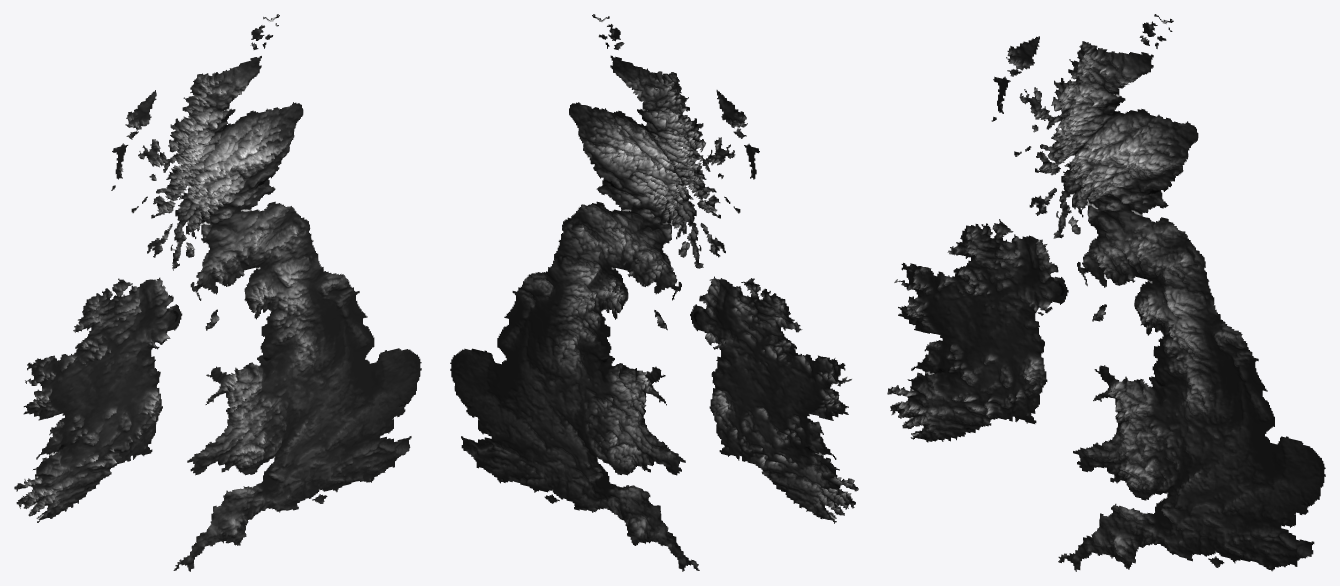
Rendered from UK_Map.glb.
The picture shows the model from 3 angles, left to right: view 1: azimuth 30°, elevation 25°; view 2: azimuth 150°, elevation 25°; view 3: azimuth 330°, elevation 25°; orthographic projection. The views are drawn at different scales.
Visible parts, largest first — view 1: uk_map; view 2: uk_map; view 3: uk_map.
Boxes of the visible parts, x1,y1,x2,y2 form: uk_map: [14, 14, 421, 571]; uk_map: [450, 14, 858, 571]; uk_map: [887, 14, 1325, 571].
Size of the model in its own units: 1.46 by 1.84 by 0.0476.
1 material, 1 textured.
